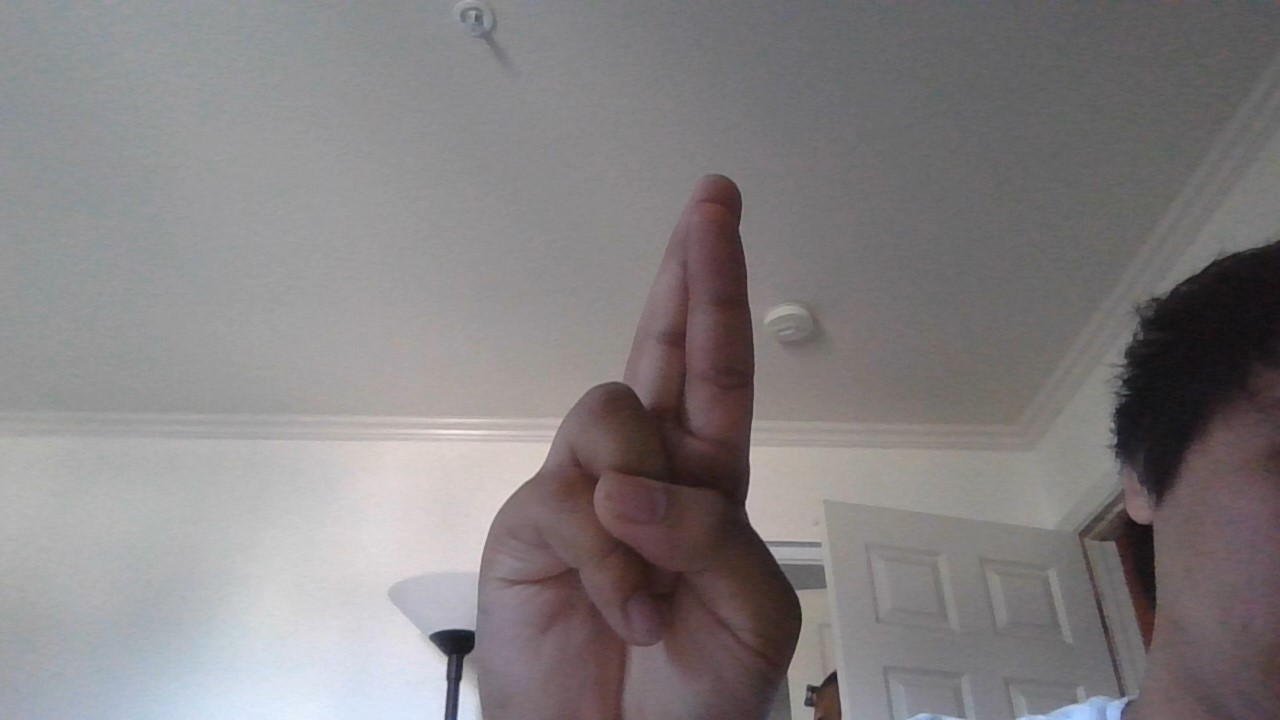r: (430, 152, 851, 720)
